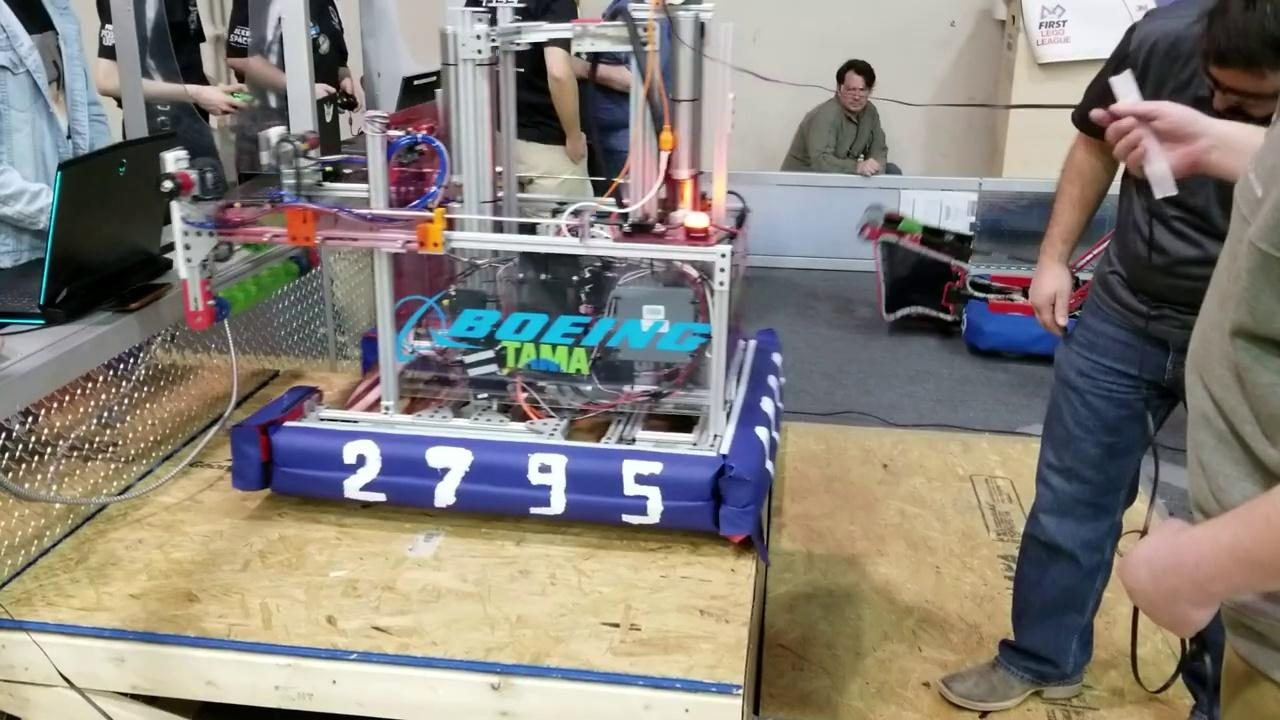robot: (156, 0, 785, 546)
